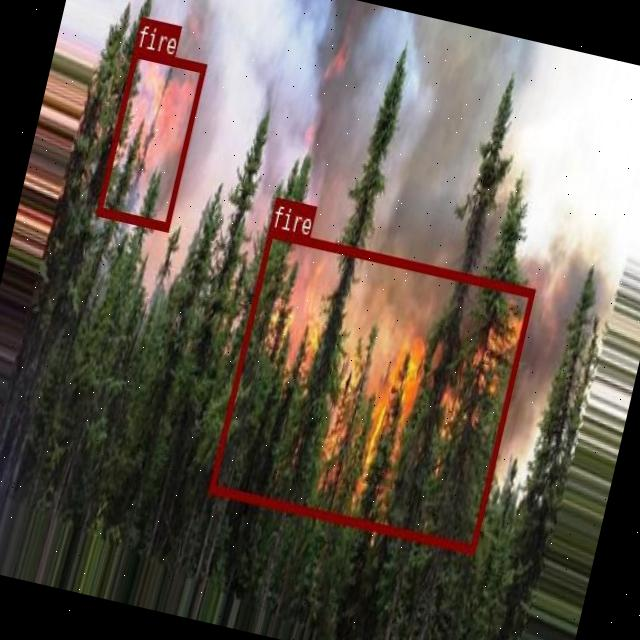fire: (208, 227, 534, 552), (96, 47, 206, 228)
